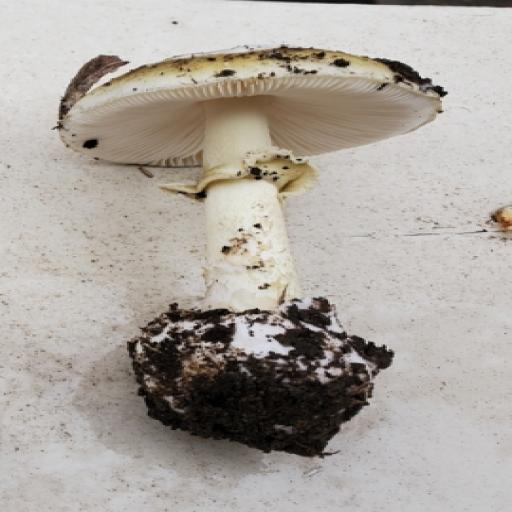mushroom: (48, 14, 452, 207)
